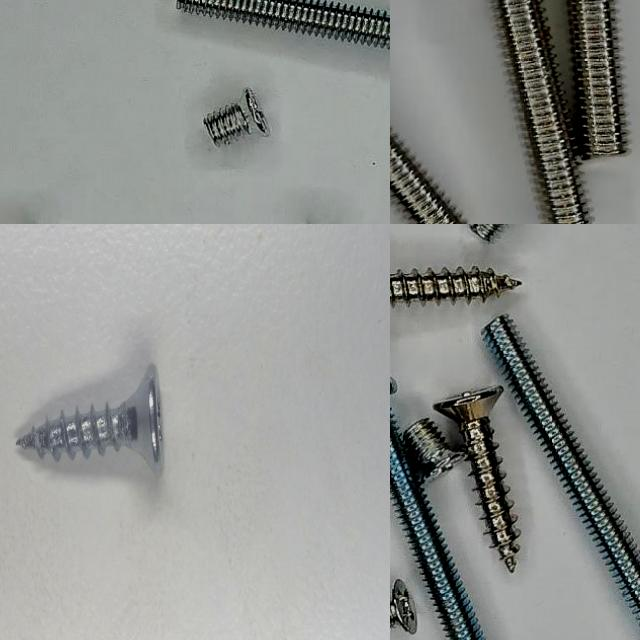Screw: (485, 315, 640, 619), (390, 403, 485, 640), (493, 0, 591, 224), (494, 0, 591, 224), (16, 363, 164, 476), (435, 386, 521, 573), (177, 0, 390, 48), (568, 0, 628, 158), (390, 131, 467, 224), (390, 267, 521, 304), (404, 418, 467, 481), (204, 87, 270, 146), (390, 580, 416, 635), (470, 224, 504, 241)
